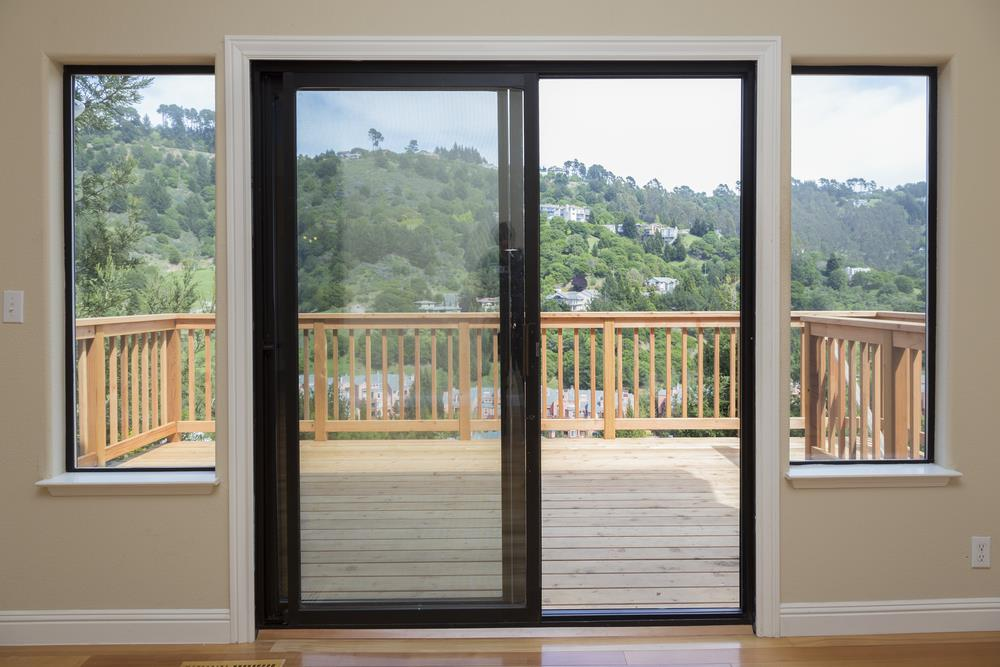windows: (252, 58, 755, 626)
